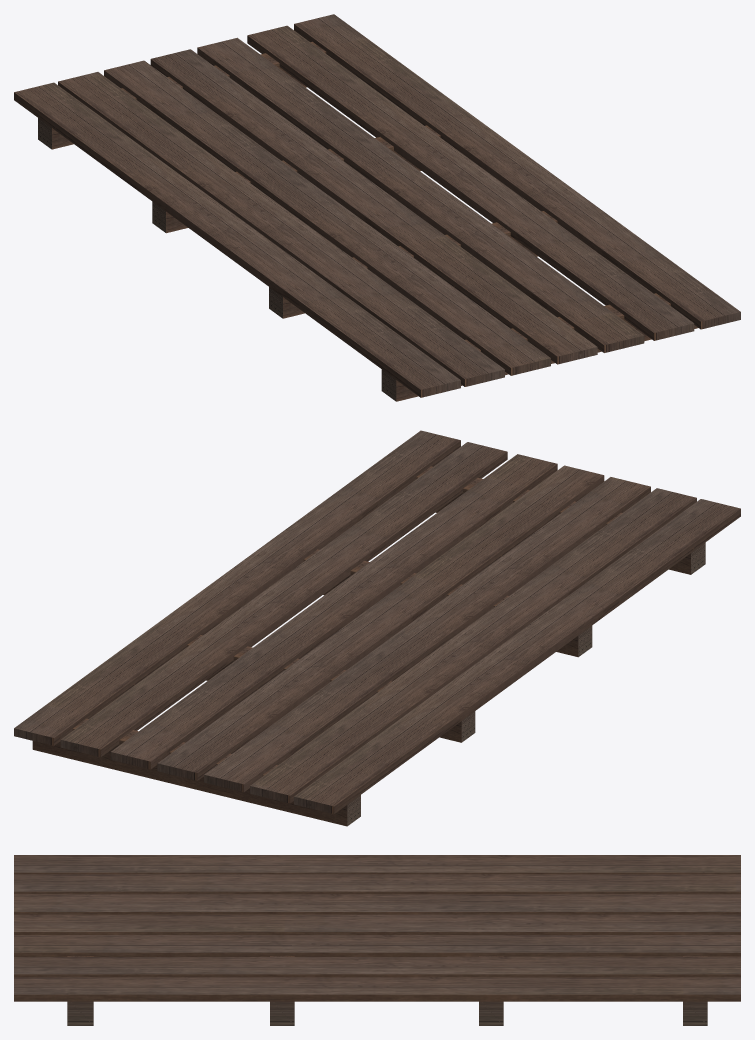
Rendered from jov_sunoko0x1t.fbx.
3 views of the same model, one above another, from view 1: azimuth 30°, elevation 25°; view 2: azimuth 150°, elevation 25°; view 3: azimuth 270°, elevation 25° (orthographic). The views are drawn at different scales.
Parts seen in each view (by area): view 1: jov_sunoko0x1t; view 2: jov_sunoko0x1t; view 3: jov_sunoko0x1t.
Part boxes in pixels (x1=…): jov_sunoko0x1t: x1=14, y1=14, x2=740, y2=401; jov_sunoko0x1t: x1=14, y1=430, x2=740, y2=826; jov_sunoko0x1t: x1=14, y1=855, x2=740, y2=1025.
Size of the model in its own units: 106 by 11.03 by 232.
